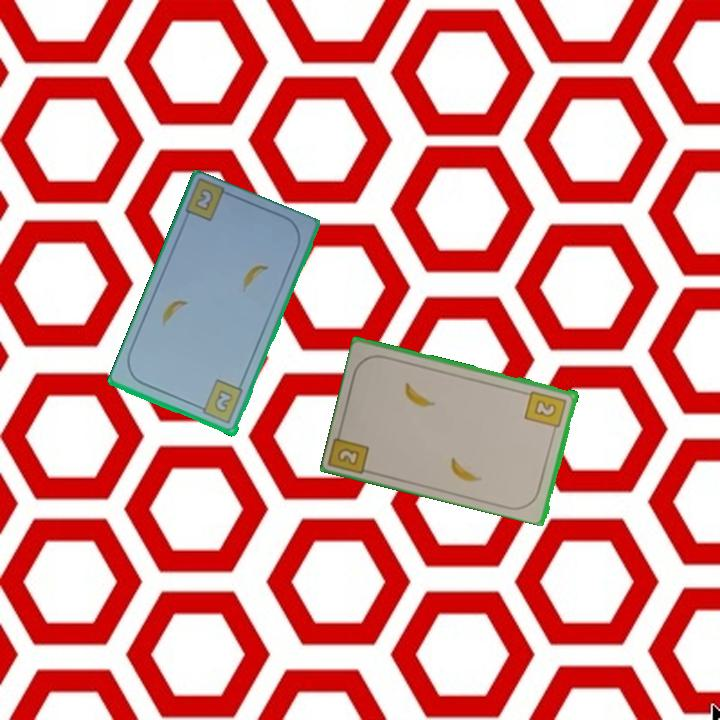2b: (194, 377, 246, 427), (522, 387, 570, 435), (191, 185, 216, 214), (334, 444, 363, 468)
